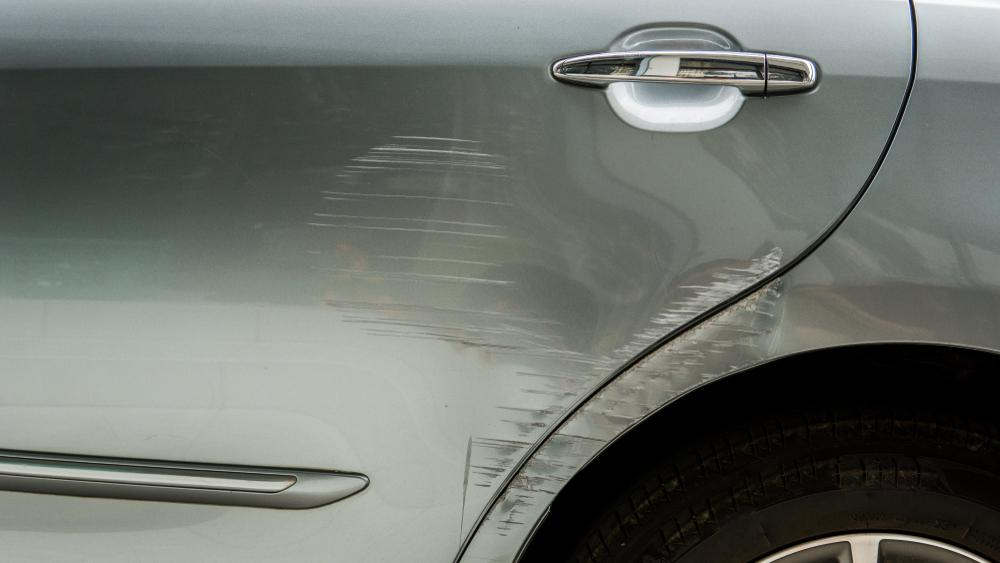dent: (519, 214, 663, 351)
scratch: (302, 125, 791, 505), (480, 274, 789, 541)
